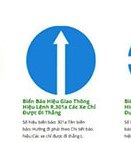Go_straight: (24, 24, 98, 96)
